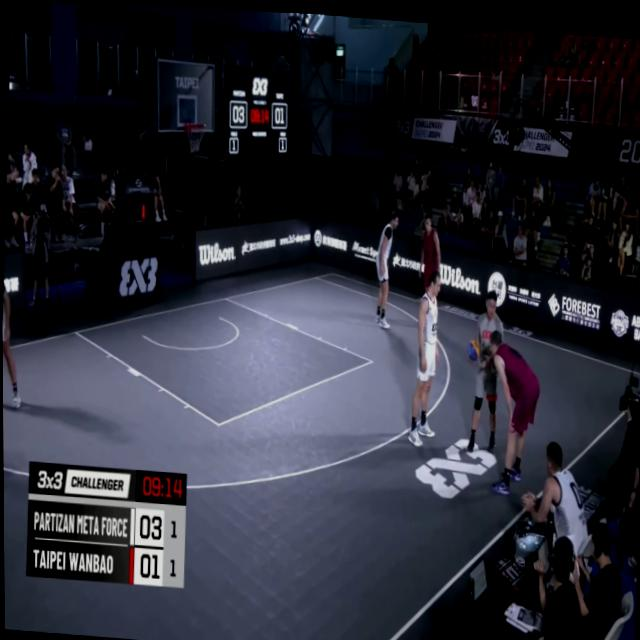ball: (464, 331, 481, 363)
hoop: (182, 113, 205, 154)
player: (481, 322, 542, 496), (406, 266, 442, 440), (371, 202, 397, 328), (418, 211, 442, 292)
